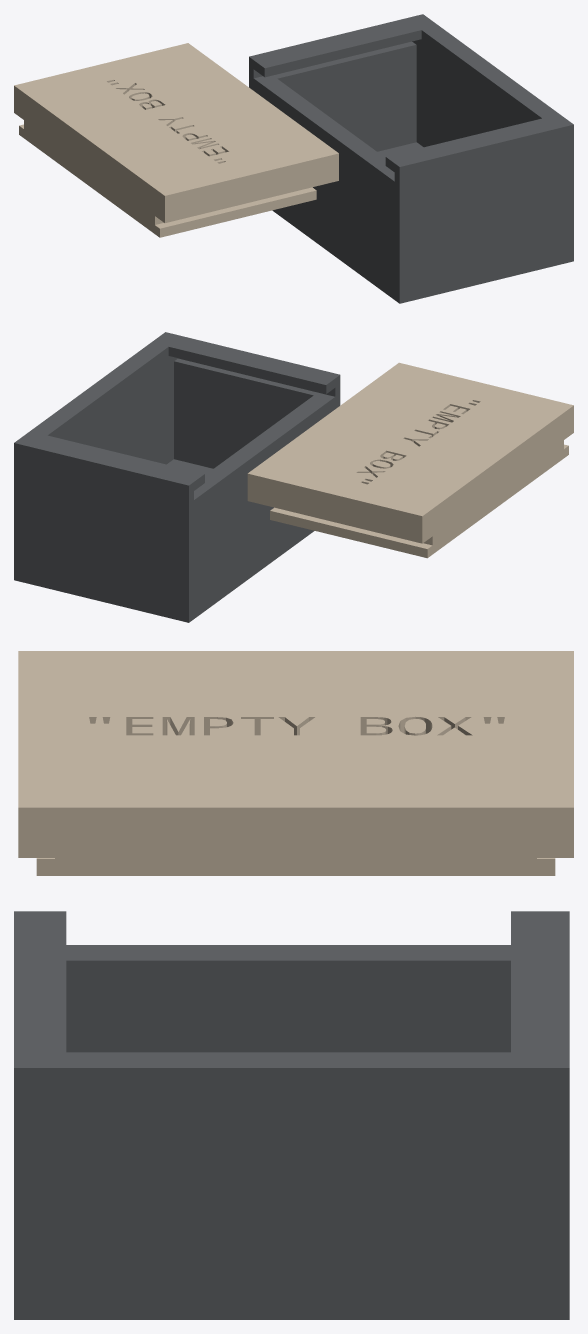
File: asset.glb
3 views of the same model, one above another, from view 1: azimuth 30°, elevation 25°; view 2: azimuth 150°, elevation 25°; view 3: azimuth 270°, elevation 25° (orthographic). The views are drawn at different scales.
Parts seen in each view (by area): view 1: Mesh_Mesh_head_geo.001_lambert2SG.001; view 2: Mesh_Mesh_head_geo.001_lambert2SG.001; view 3: Mesh_Mesh_head_geo.001_lambert2SG.001.
Boxes of the visible parts, box(x1,y1,x2,y2) form: Mesh_Mesh_head_geo.001_lambert2SG.001: box(14, 14, 573, 303); Mesh_Mesh_head_geo.001_lambert2SG.001: box(14, 332, 573, 622); Mesh_Mesh_head_geo.001_lambert2SG.001: box(14, 651, 573, 1319).
Bounding box in the file's own units: 234 × 90 × 151.
